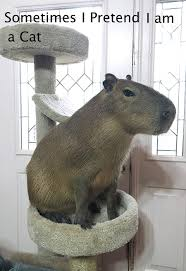capivara: (27, 71, 178, 229)
